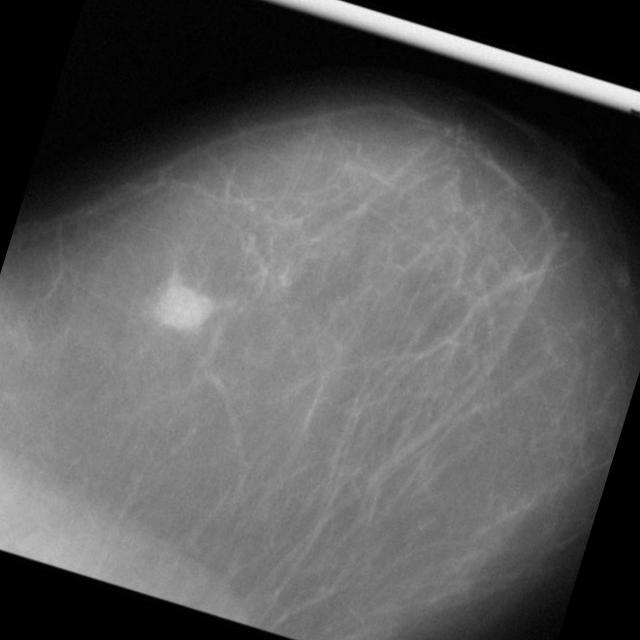MISC: (144, 268, 222, 344)
